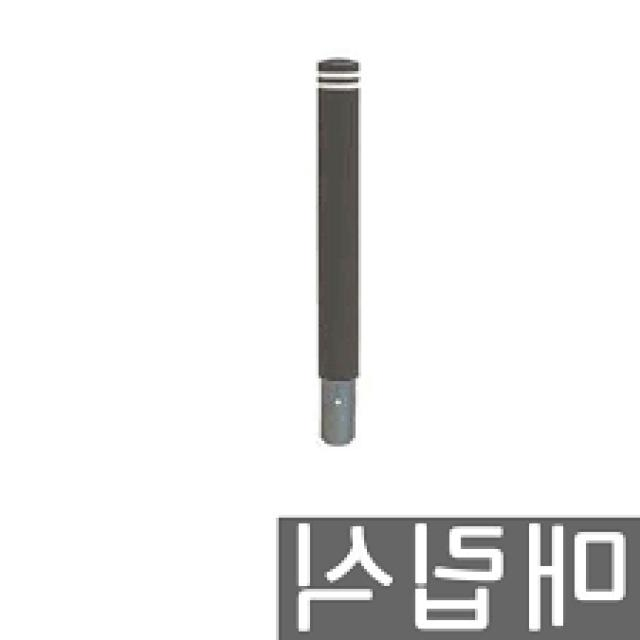bollard: (306, 52, 376, 450)
